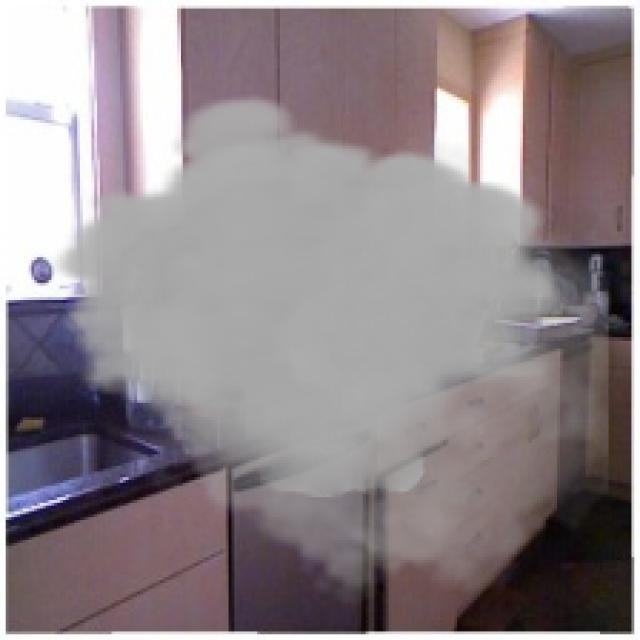smoke: (51, 91, 608, 608)
